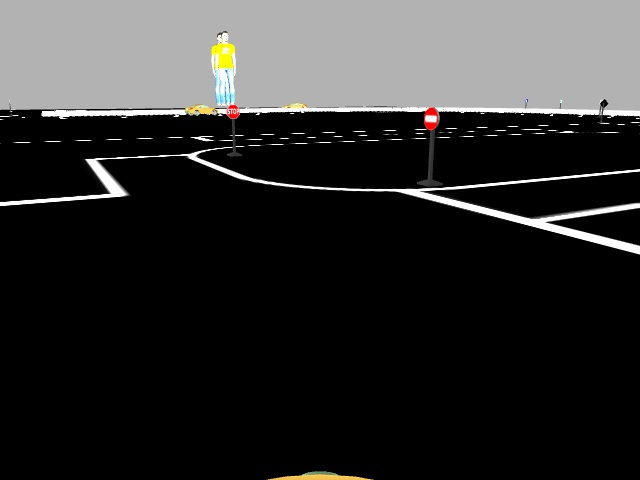NoEntry: (422, 104, 438, 129)
Stop: (225, 104, 239, 118)
